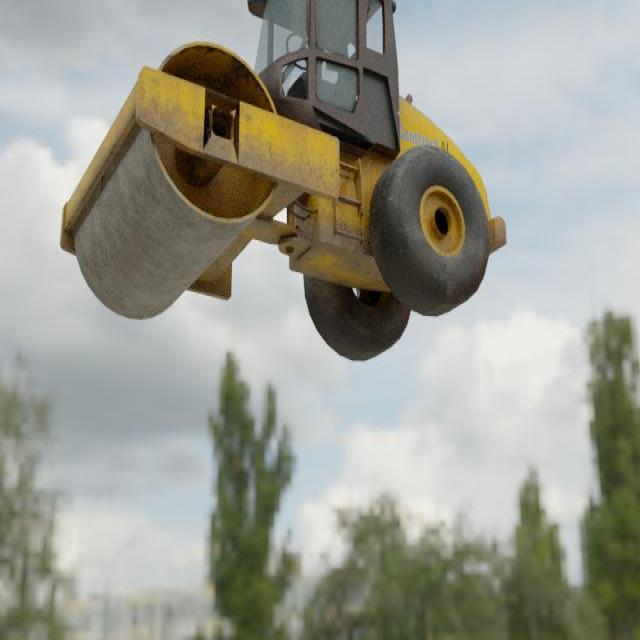Roller: (59, 0, 507, 363)
